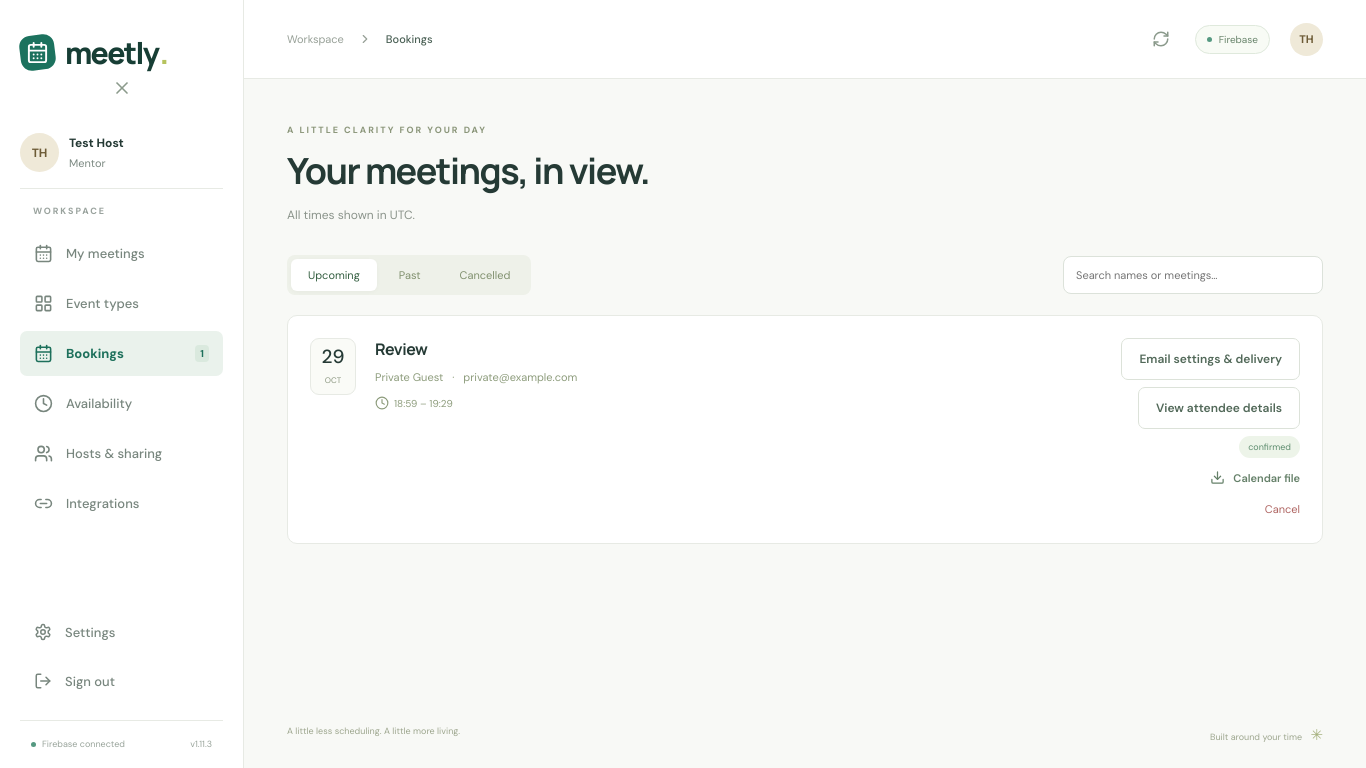
Test: attendee response started by an old session is discarded after sign-out
(page scrolled)
Click the button "View attendee details" at [1219, 408], box [1138,387,1300,429]
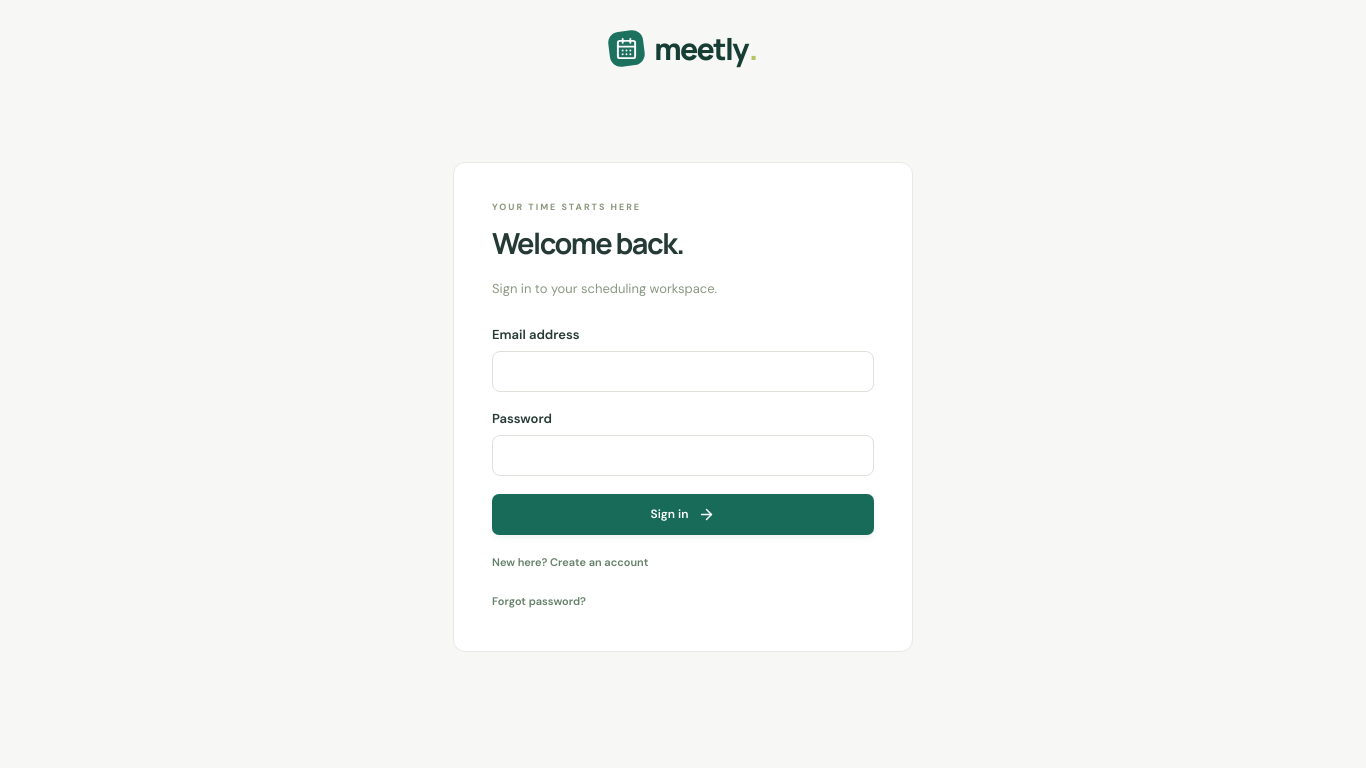
expect the heading "Welcome back." is shown: met, box [492,222,684,262]
